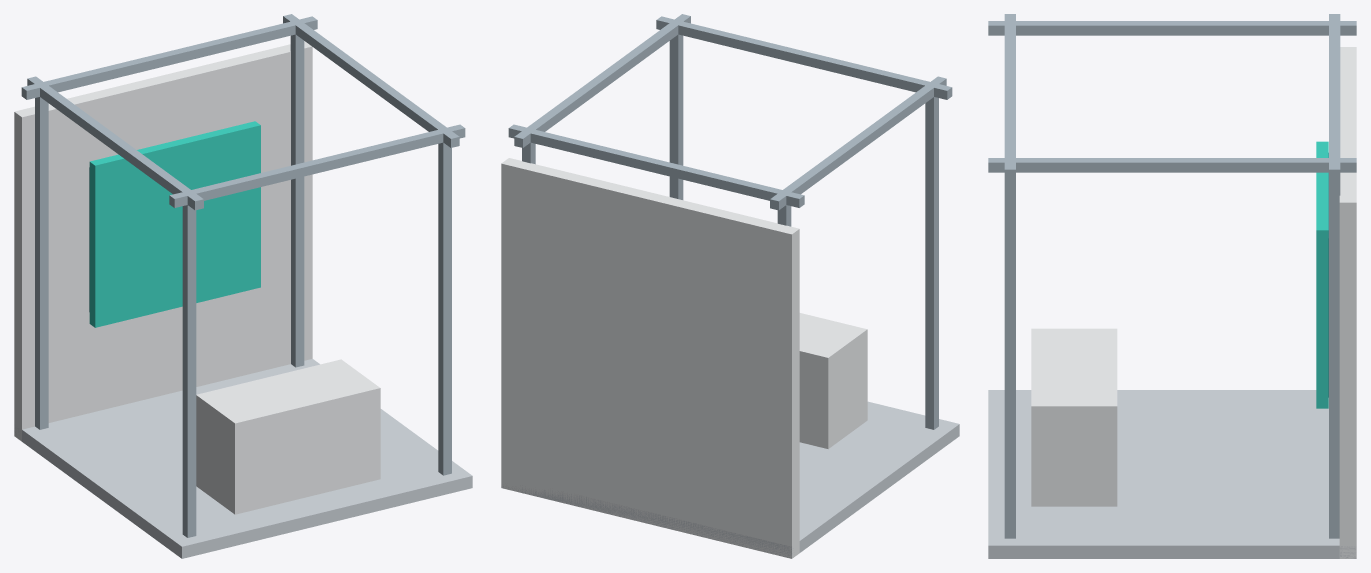
The picture shows the model from 3 angles, left to right: view 1: azimuth 30°, elevation 25°; view 2: azimuth 150°, elevation 25°; view 3: azimuth 270°, elevation 25°; orthographic projection. The views are drawn at different scales.
Parts seen in each view (by area): view 1: Exhibition Booth Concept; view 2: Exhibition Booth Concept; view 3: Exhibition Booth Concept.
Part boxes in pixels (x1=…): Exhibition Booth Concept: x1=14, y1=14, x2=472, y2=558; Exhibition Booth Concept: x1=501, y1=14, x2=959, y2=558; Exhibition Booth Concept: x1=988, y1=14, x2=1356, y2=558.
Bounding box in the file's own units: 3 × 3.49 × 3.
